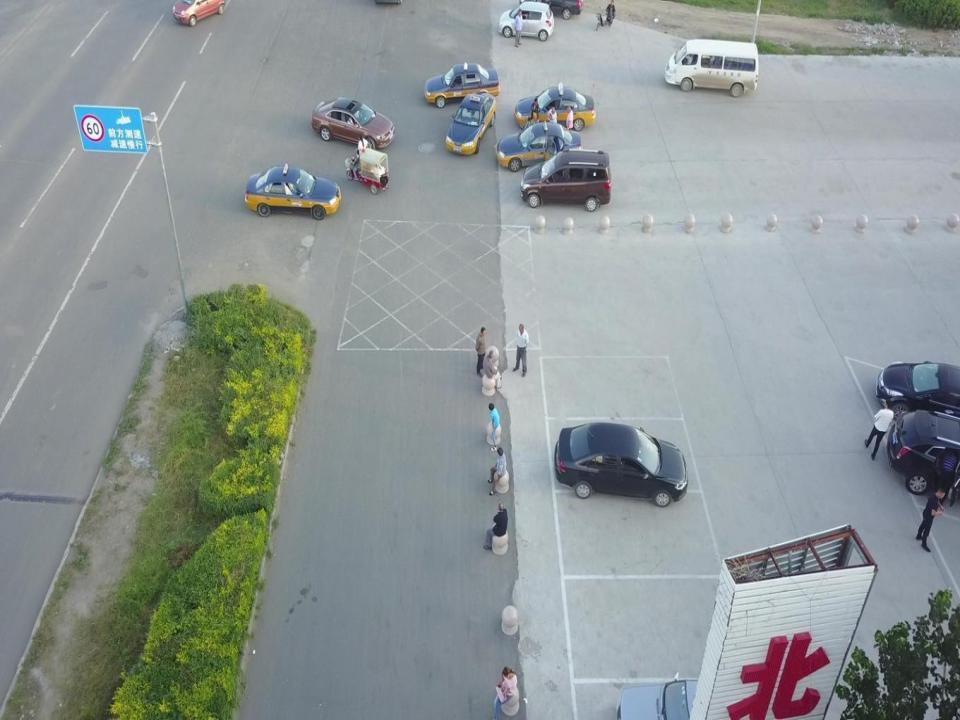car: (555, 424, 687, 509), (885, 410, 960, 504), (522, 148, 611, 212), (876, 359, 960, 425), (245, 163, 341, 220), (615, 672, 719, 720), (311, 96, 395, 152), (496, 122, 582, 172), (513, 83, 596, 130), (424, 62, 500, 106), (445, 92, 496, 154), (497, 2, 554, 41), (172, 0, 225, 24), (519, 0, 584, 19)
van: (664, 39, 758, 97)
